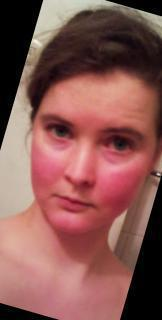Drunk: (40, 79, 151, 228)
